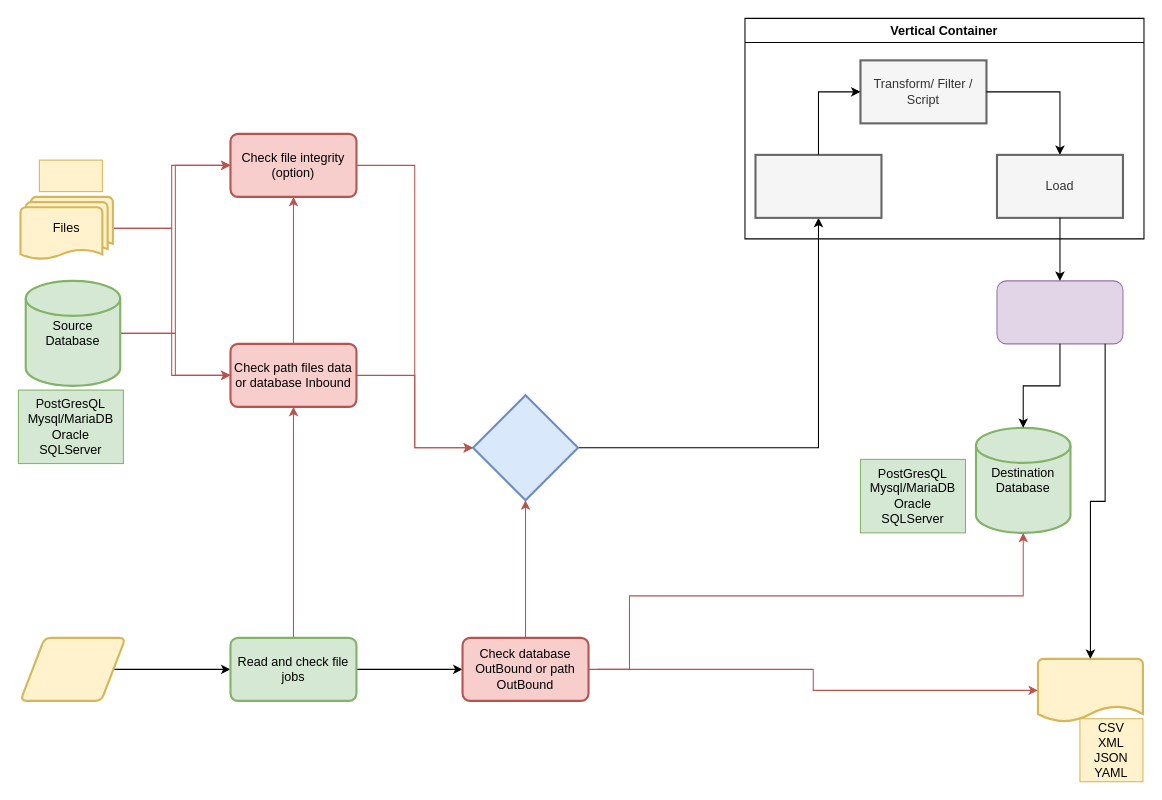
The diagram is 1162 pixels wide and 800 high, and some of its shapes have lost their labels. The box of each missing label's shape, as (x1, y1, x2, y2) in pixels:
CSV XML: (38, 159, 102, 192)
Extract data: (754, 153, 882, 218)
If OK: (471, 394, 579, 501)
Path OutGoing: (1036, 657, 1143, 722)
SQL PostProcessing: (996, 280, 1123, 344)
Yaml File Jobs: (19, 636, 126, 701)
